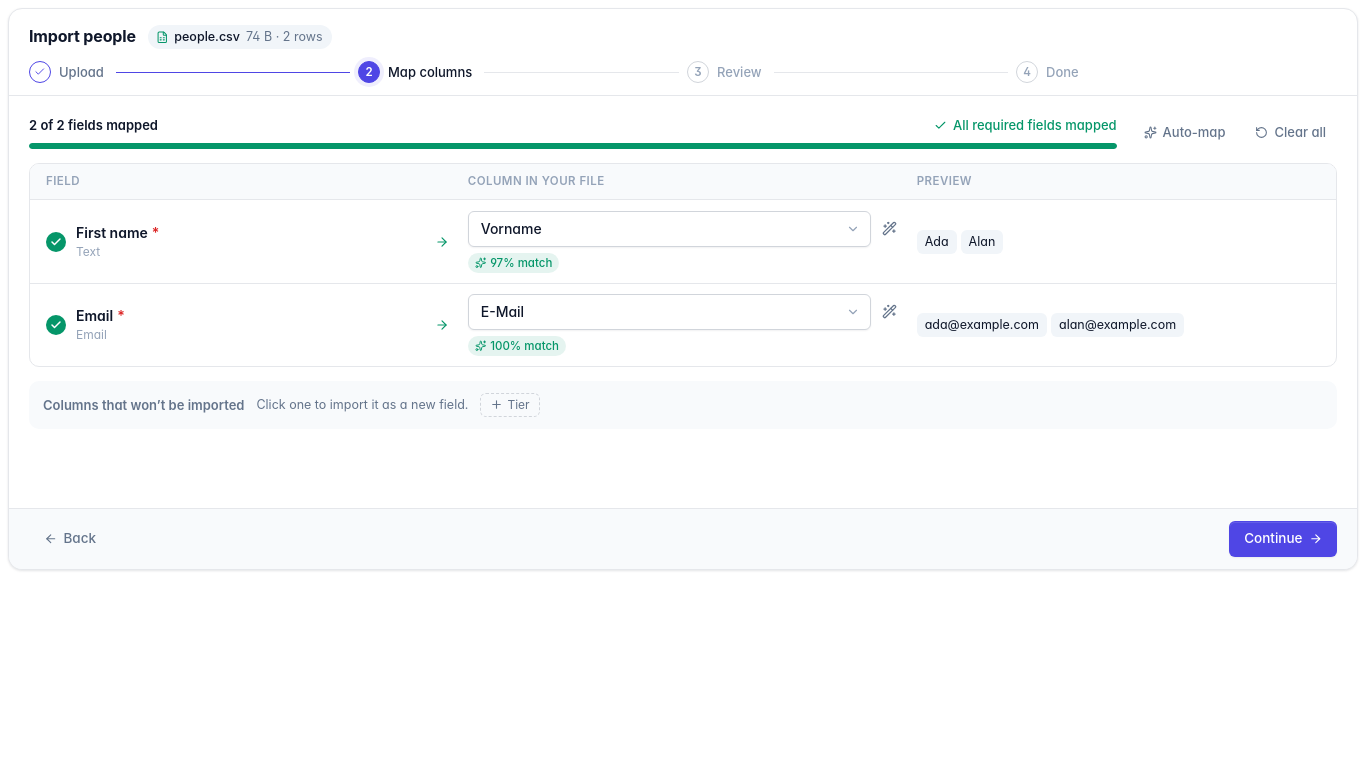
Test: custom fields in <Importer> › adds an unused column as a new field and imports it in $custom
Check: the text "2 of 2 fields mapped" is shown, box [29,116,158,135]
Check: the text "Click one to import it as a new field." is shown, box [256,396,468,414]
Click the button with aria-label "Add as field: Tier" at (510, 405), box [480,393,540,417]
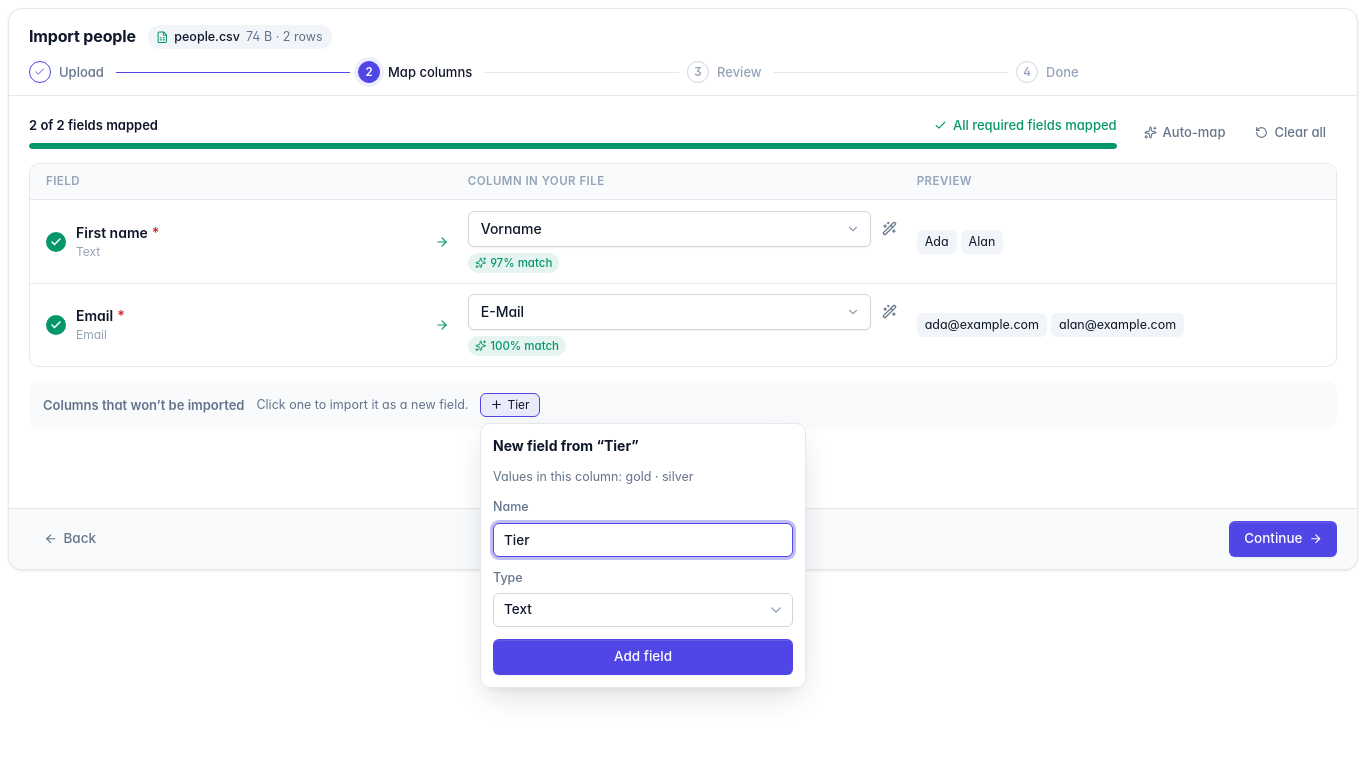
Check: the text "New field from “Tier”" is shown, box [493,437,639,454]
Check: the field labelled "Name" holds "Tier"
Replace the text in the field labelled "Name" with "Loyalty tier" at (643, 540), box [493,522,793,556]
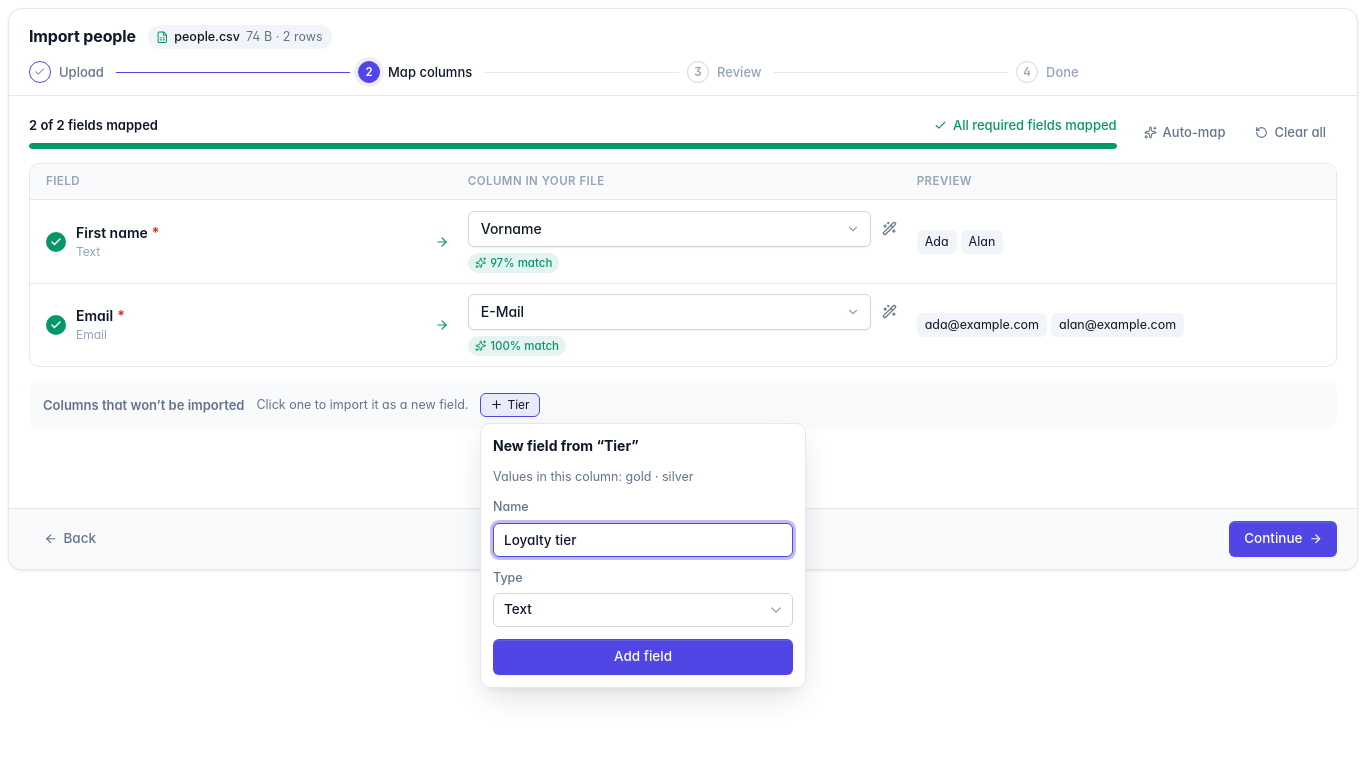
Click the button "Add field" at (643, 657), box [493,639,793,675]
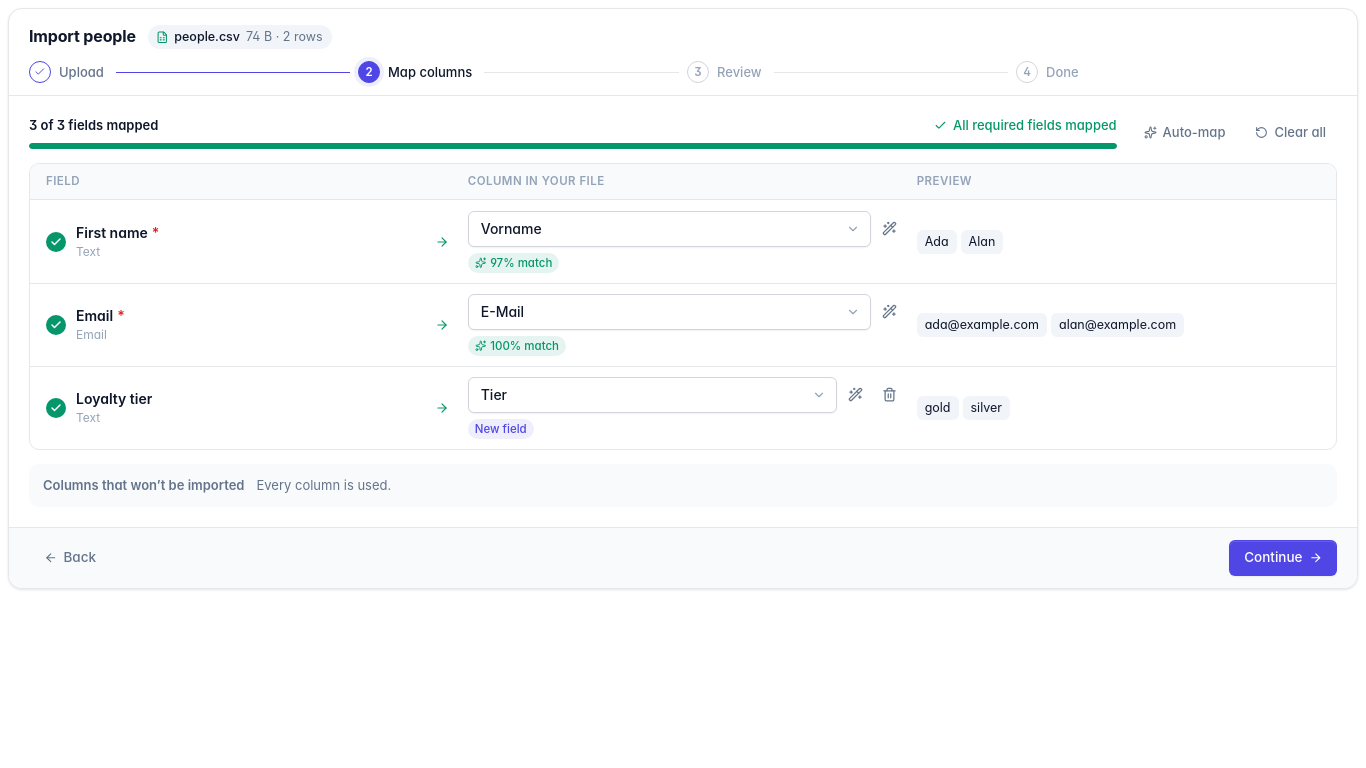
Check: the text "3 of 3 fields mapped" is shown, box [29,116,158,135]
Check: the text "Loyalty tier" is shown, box [76,389,152,409]
Check: the text "Every column is used." is shown, box [256,476,391,495]
Click the button "Continue" at (1283, 558), box [1229,540,1337,576]
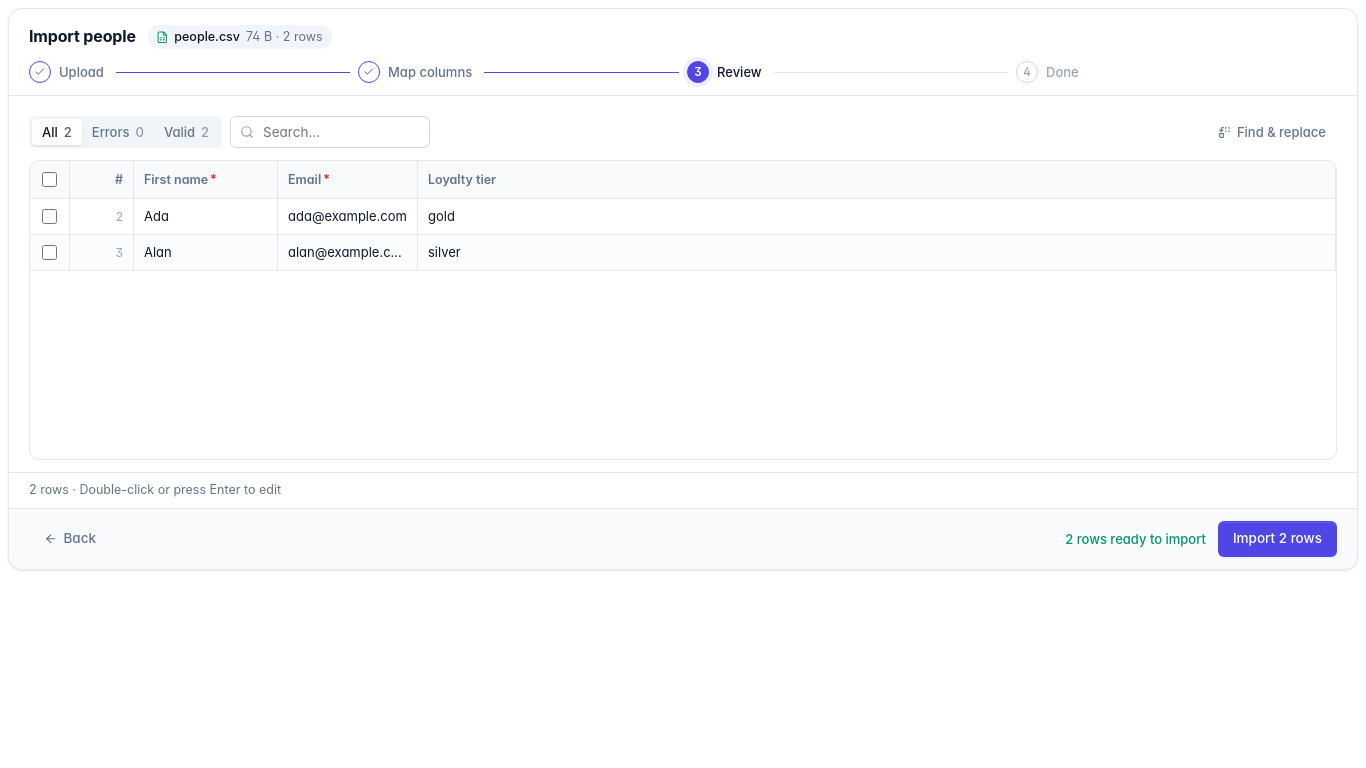
Click the button "Import 2 rows" at (1277, 539), box [1218,521,1337,557]
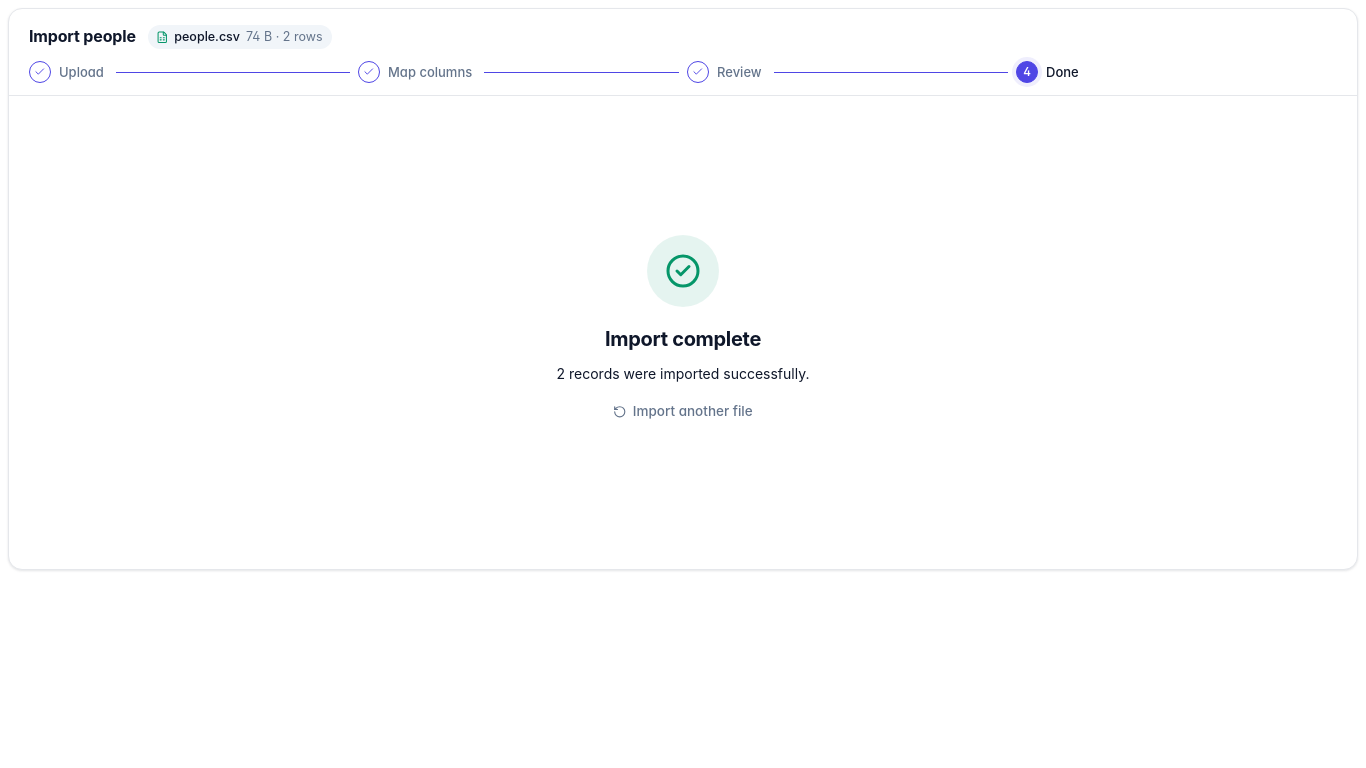
Check: the heading "Import complete" is shown, box [605,325,761,354]
